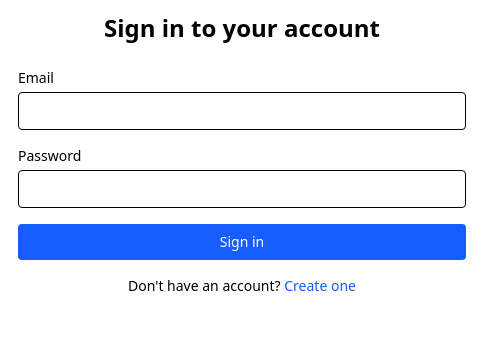
Test case: LoginPage — validation › shows email error when submitted empty
Click the button "Sign in": [242, 242] box top-left (18, 224), bottom-right (466, 260)
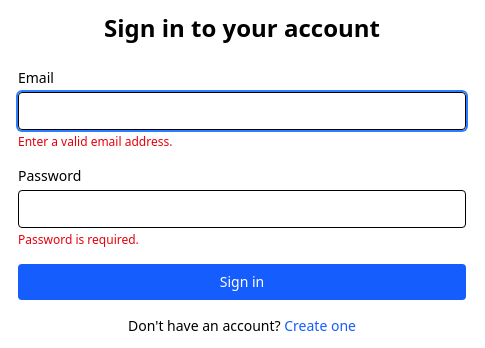
Expected: the text "Enter a valid email address." is shown, top-left (18, 133), bottom-right (172, 150)
